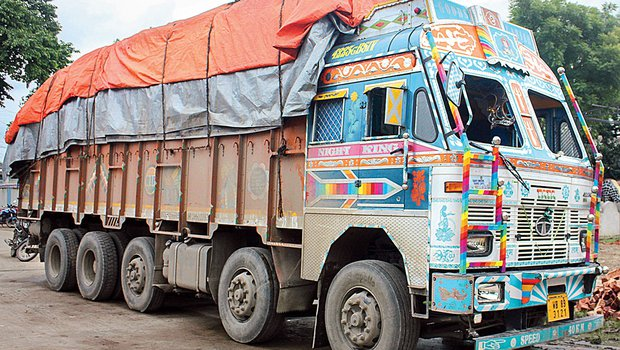truck: (10, 25, 615, 334)
